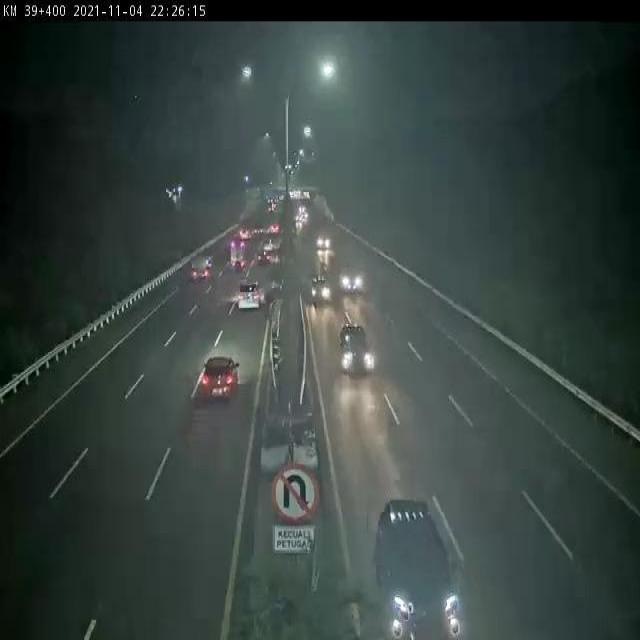car: (368, 490, 470, 640), (189, 349, 248, 402), (335, 322, 377, 382), (238, 285, 269, 316), (306, 283, 338, 312), (338, 268, 364, 300)
